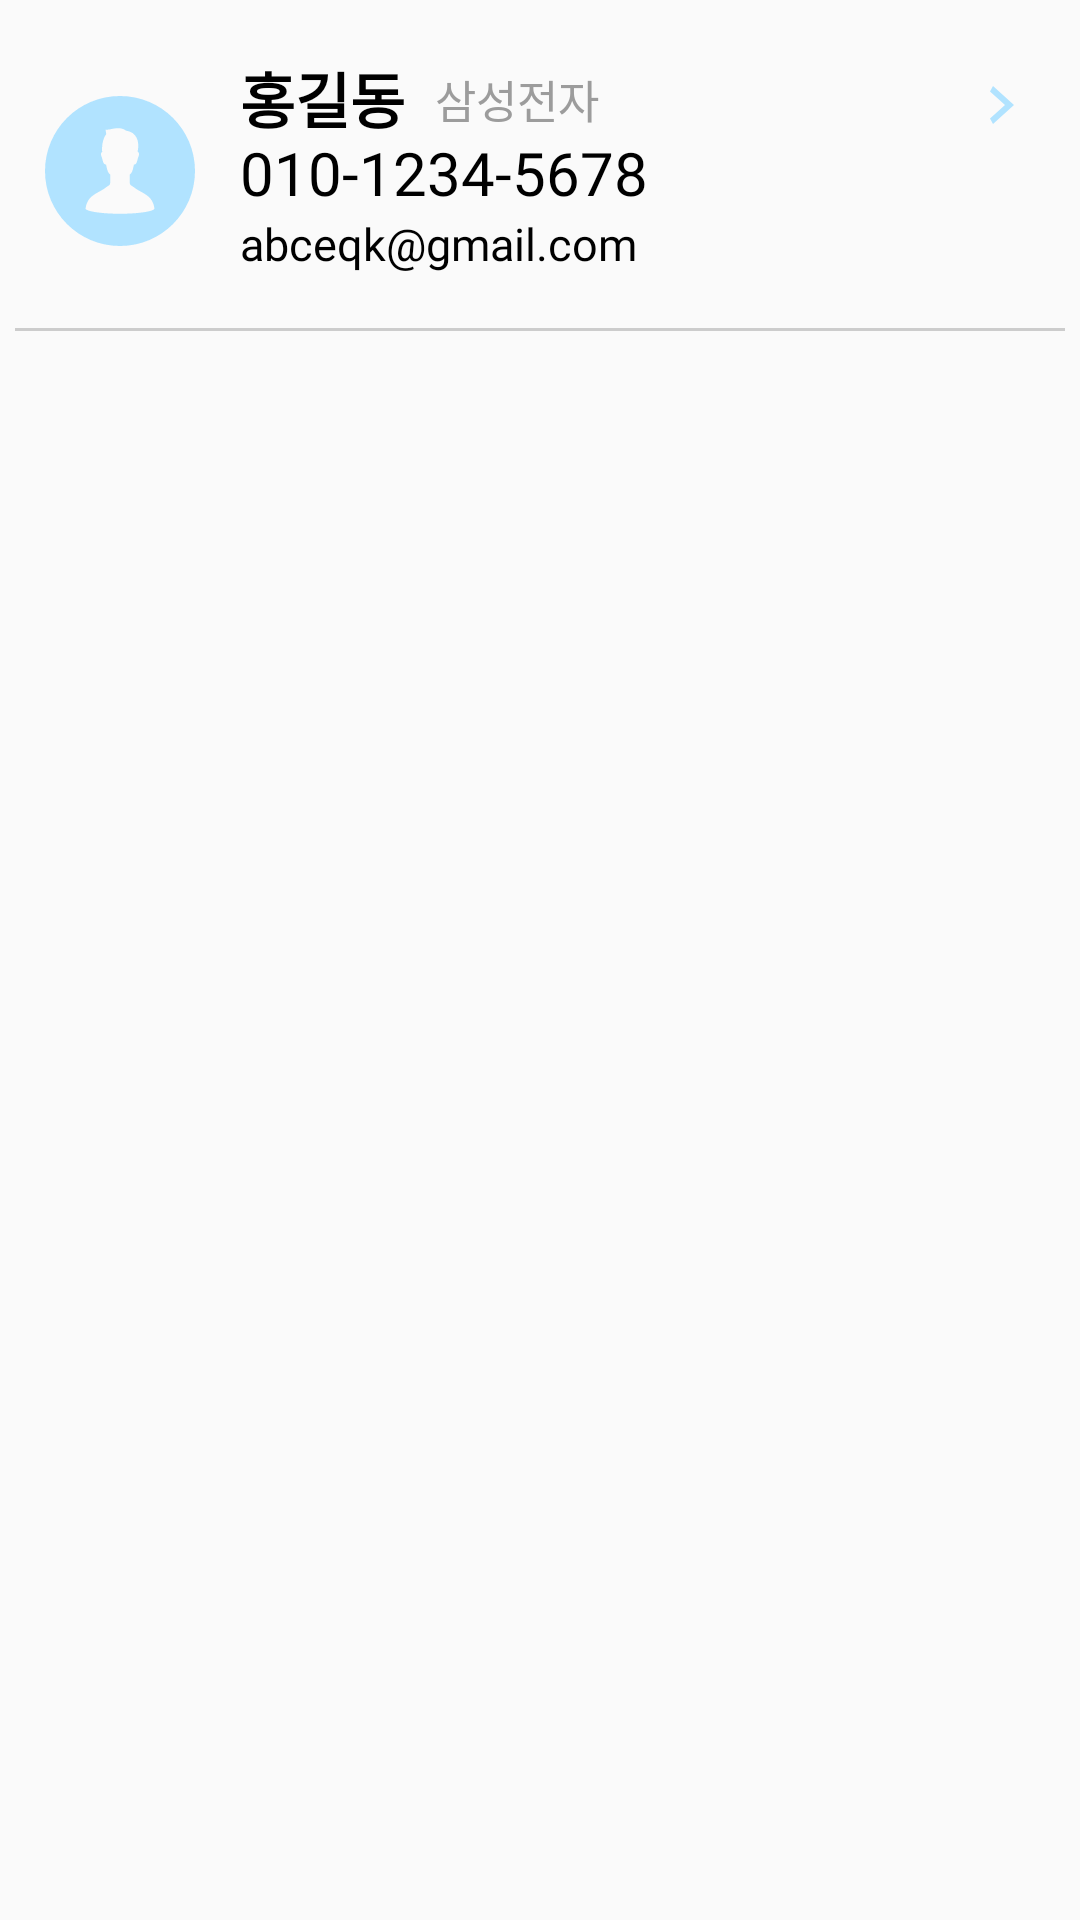

Where icons sit on this 1080px x 1920px app screen, as (x1, y1, x2, y2):
person: (45, 96, 195, 246)
